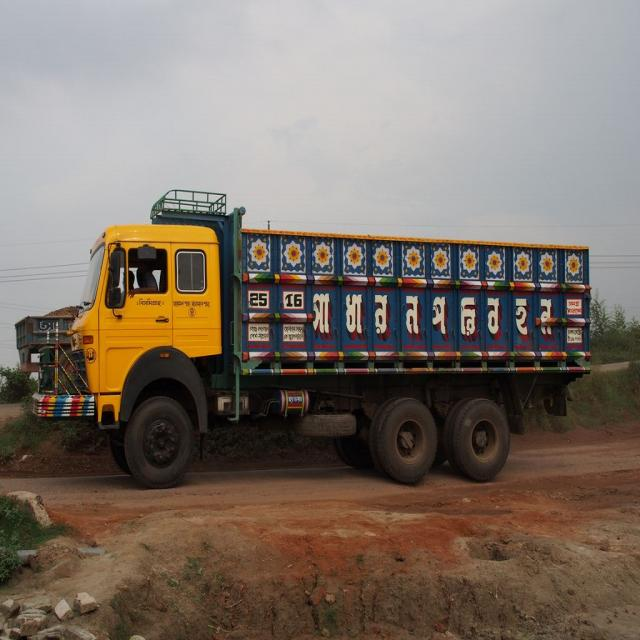truck: (23, 152, 607, 518)
